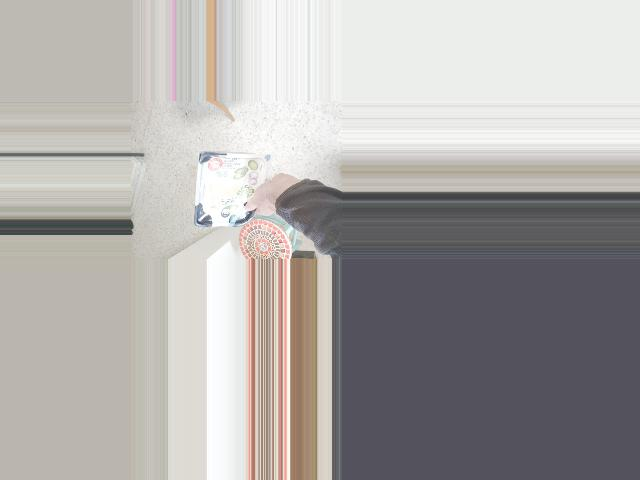cheese: (197, 141, 293, 236)
